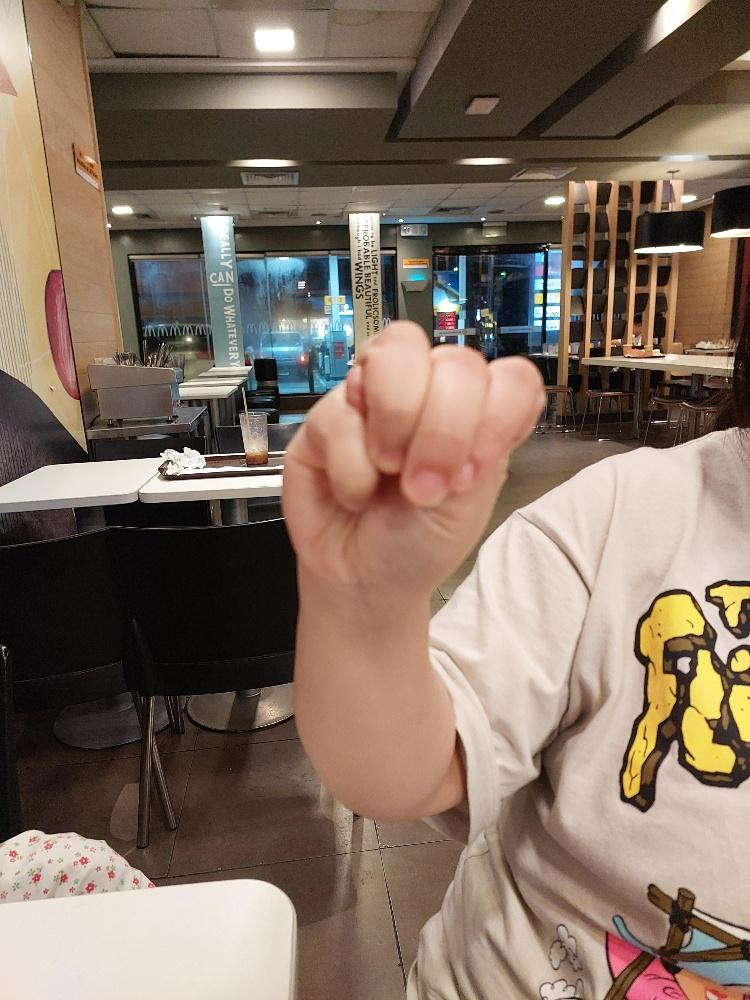m: (278, 319, 548, 598)
